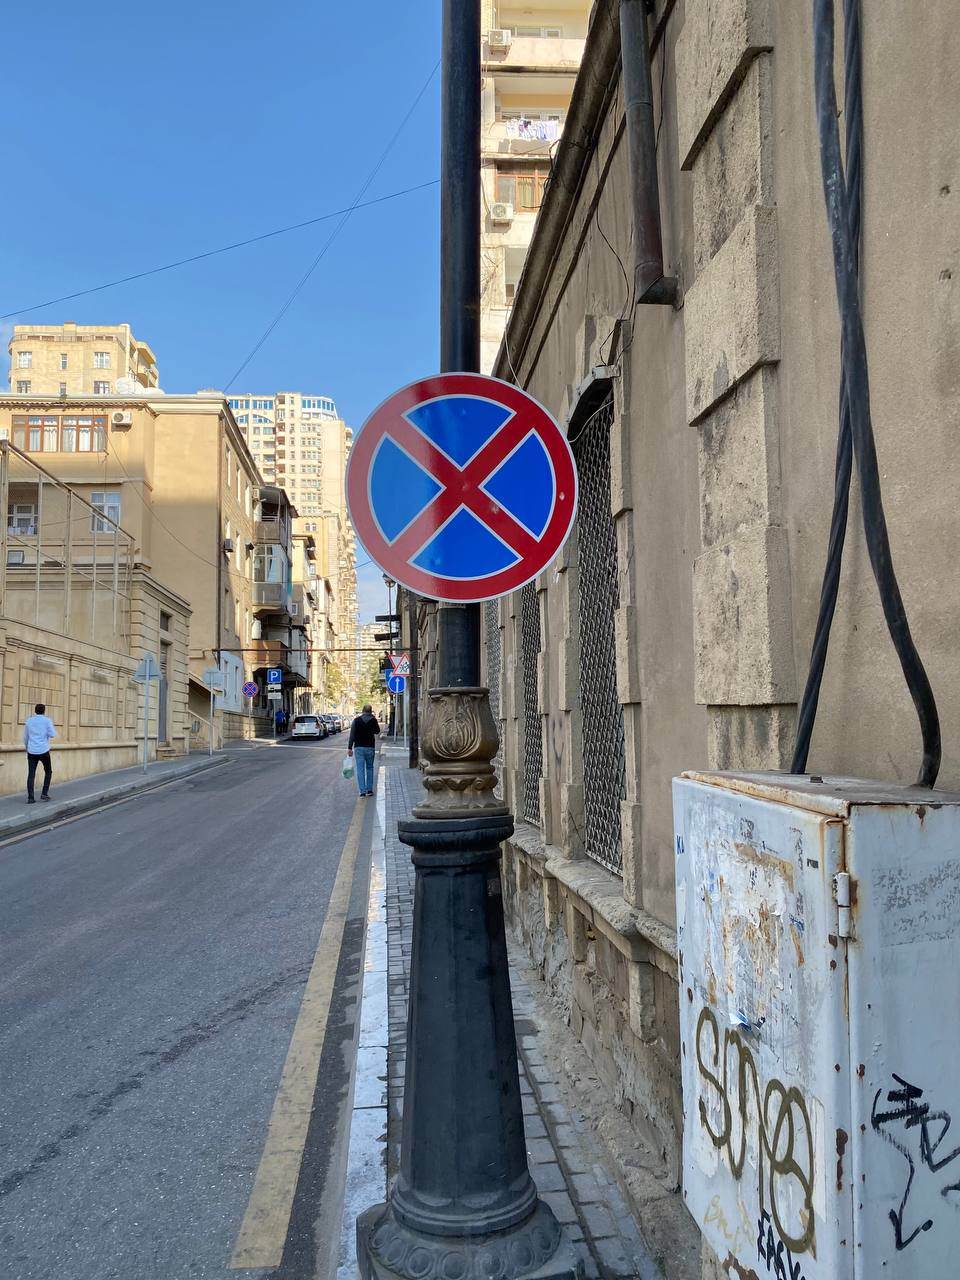No Parking: (343, 371, 579, 605)
